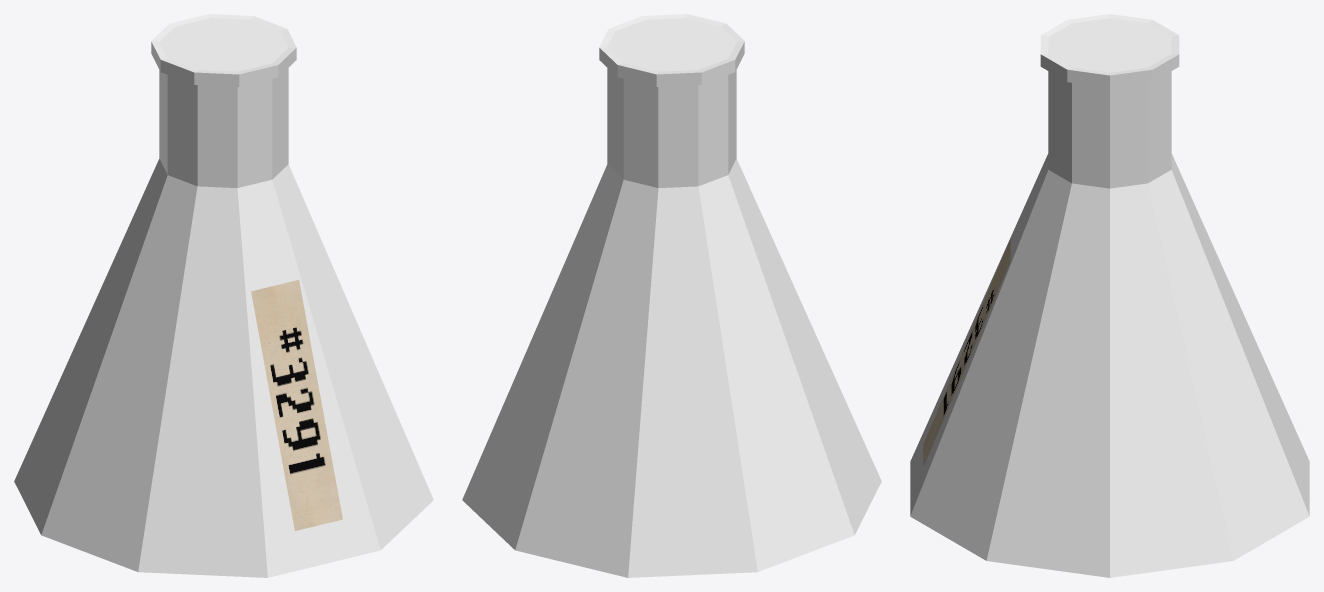
The model's file is Chemistry Beaker.glb.
3 renders of one model, left to right at view 1: azimuth 30°, elevation 25°; view 2: azimuth 150°, elevation 25°; view 3: azimuth 270°, elevation 25°, orthographic.
Parts seen in each view (by area): view 1: Beaker, Name; view 2: Beaker; view 3: Beaker, Name.
Part boxes in pixels (x1,y1,x2,y2): Beaker: [14, 14, 433, 577]; Name: [251, 279, 342, 530]; Beaker: [462, 14, 881, 577]; Beaker: [910, 14, 1309, 577]; Name: [923, 238, 1010, 466].
Bounding box in the file's own units: 3.44 × 4.01 × 3.27.
3 materials, 1 textured.
